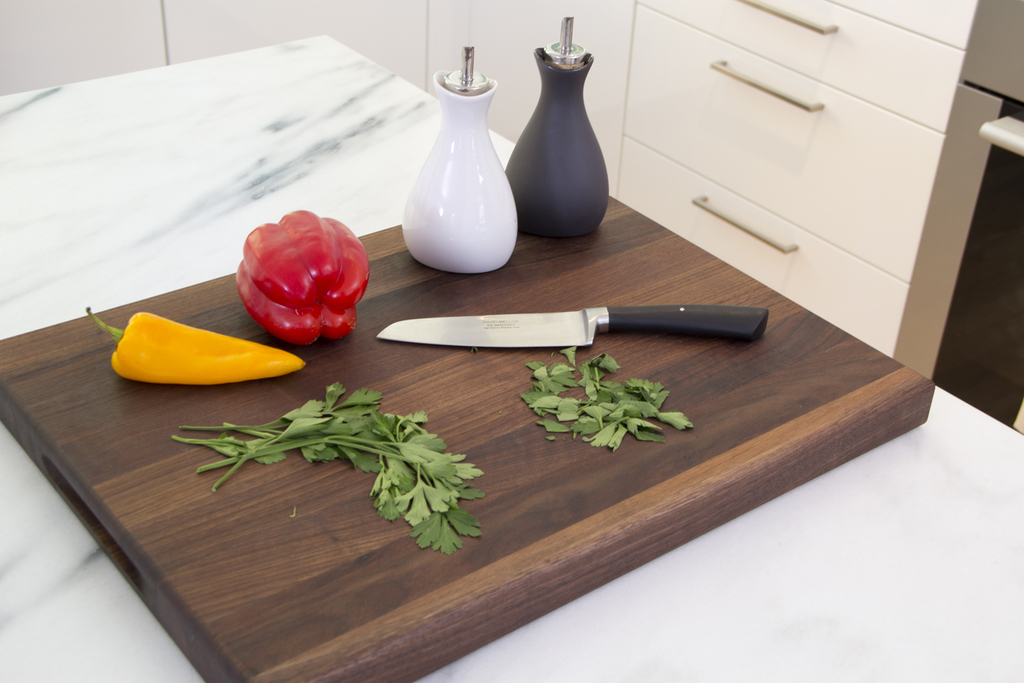kitchen knife: (372, 298, 772, 349)
